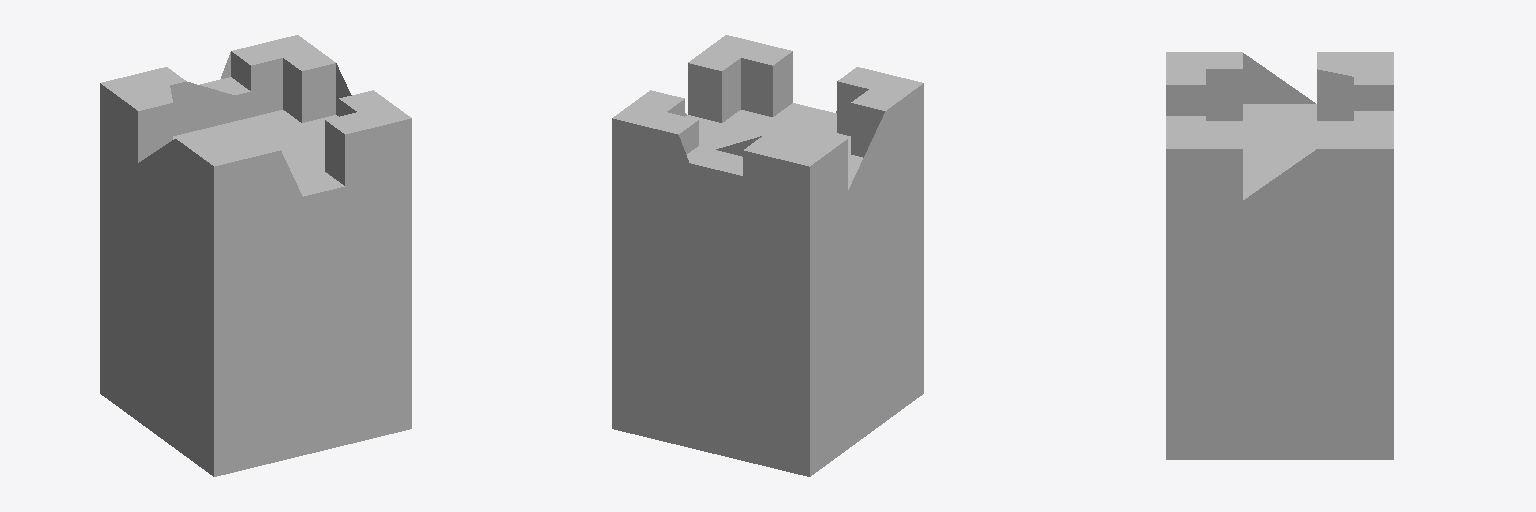
Rendered from tower5.obj.
3 renders of one model, left to right at view 1: azimuth 30°, elevation 25°; view 2: azimuth 150°, elevation 25°; view 3: azimuth 270°, elevation 25°, orthographic.
Parts seen in each view (by area): view 1: Kostka; view 2: Kostka; view 3: Kostka.
Part boxes in pixels (bbox=[...]): Kostka: bbox=[100, 35, 411, 476]; Kostka: bbox=[612, 35, 923, 476]; Kostka: bbox=[1166, 52, 1393, 459].
Bounding box in the file's own units: 2 × 3 × 2.